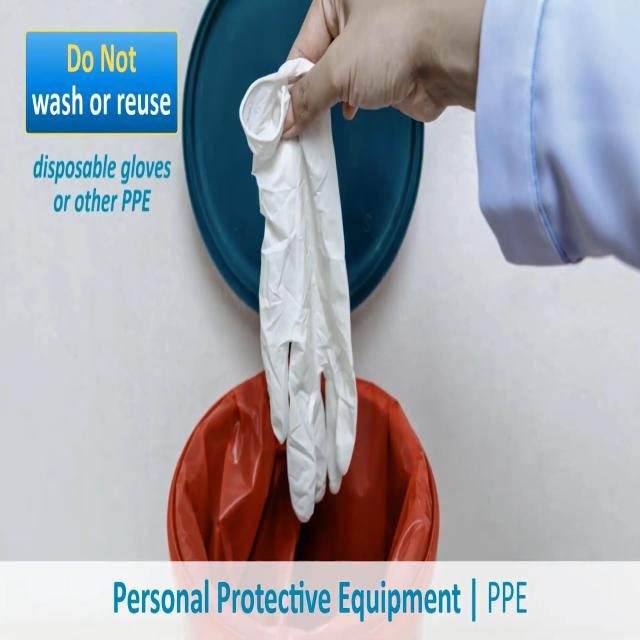Gloves: (228, 47, 370, 523)
